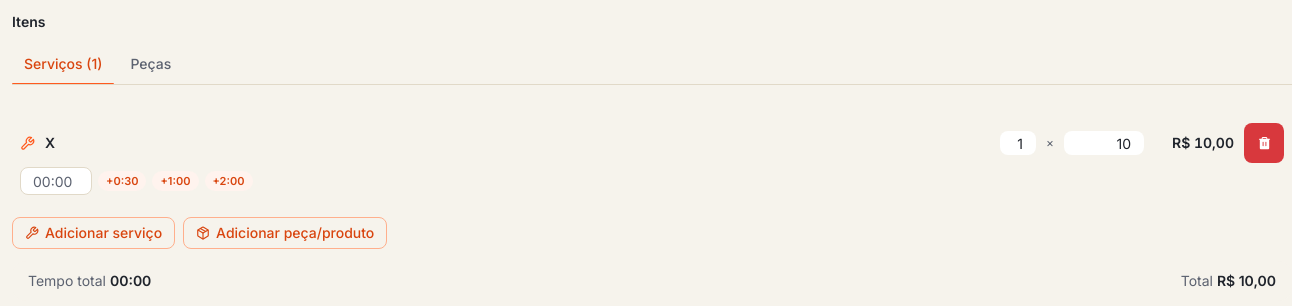
Scenario: ItemsEditor › parses a manually typed tempo vendido on blur
Type "130" into the field named "Tempo vendido" at {"x": 56, "y": 181}, box x1=20 y1=167 x2=92 y2=195
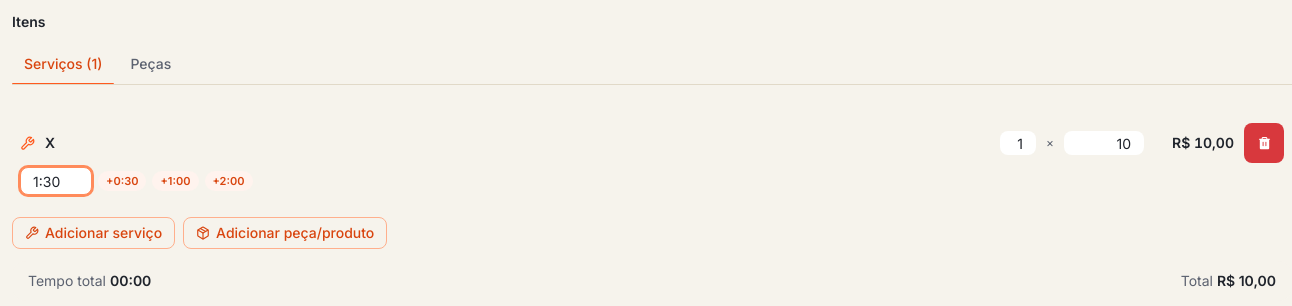
Press Tab
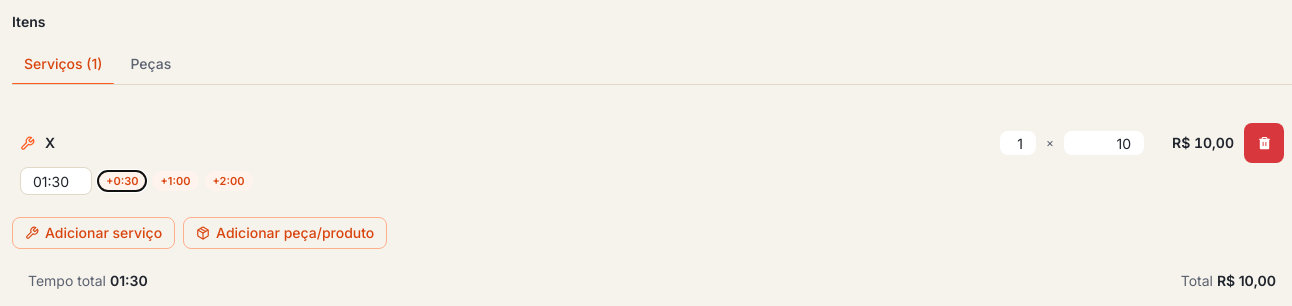
Expected: the field named "Tempo vendido" holds "01:30", x1=20 y1=167 x2=92 y2=195
